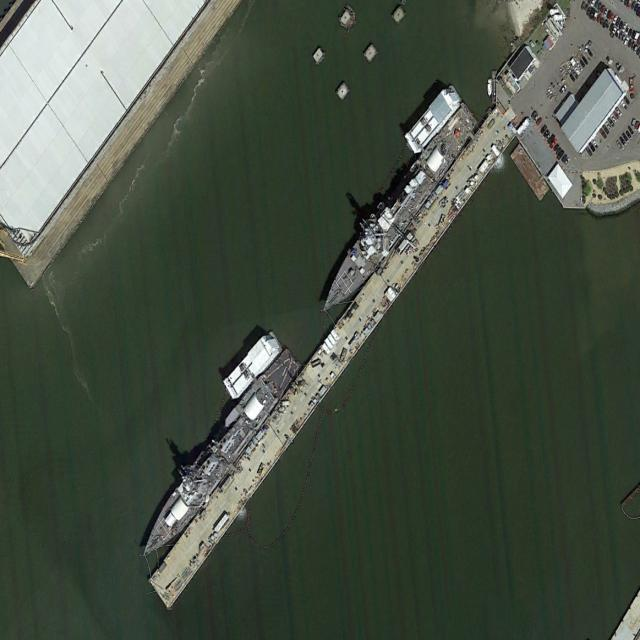Destroyer: (132, 340, 303, 572), (311, 97, 481, 326)
